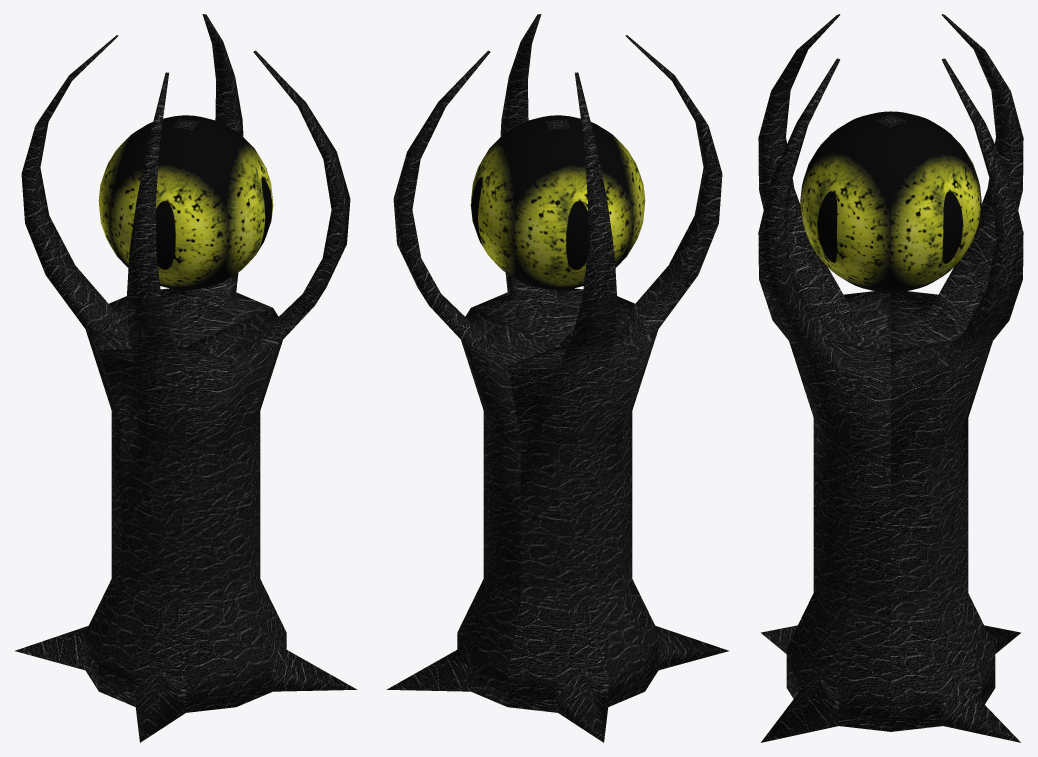
The model's file is Tower_single_target.fbx.
3 renders of one model, left to right at view 1: azimuth 30°, elevation 25°; view 2: azimuth 150°, elevation 25°; view 3: azimuth 270°, elevation 25°, orthographic. The views are drawn at different scales.
Visible parts, largest first — view 1: Tower; view 2: Tower; view 3: Tower.
Boxes of the visible parts, <box> form: Tower: <box>15,14,357,742</box>; Tower: <box>386,14,728,742</box>; Tower: <box>758,14,1023,742</box>.
Bounding box in the file's own units: 2.03 × 5.5 × 2.03.
Materials: 1 (1 with a texture image).
